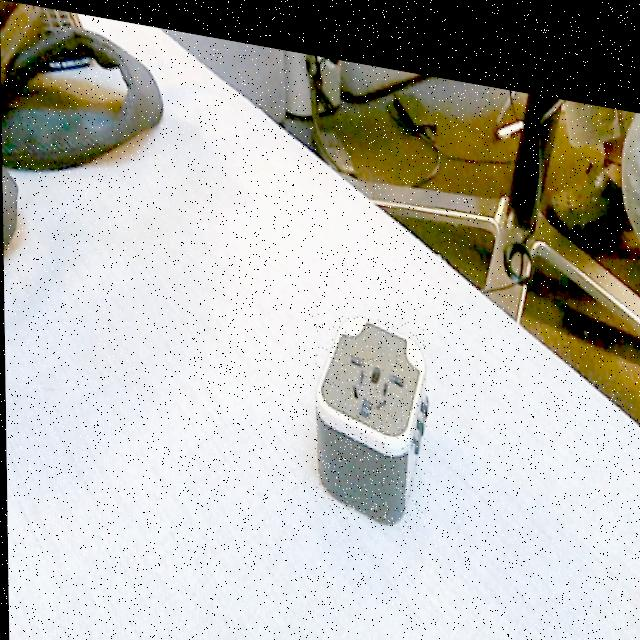adapter: (311, 293, 430, 518)
